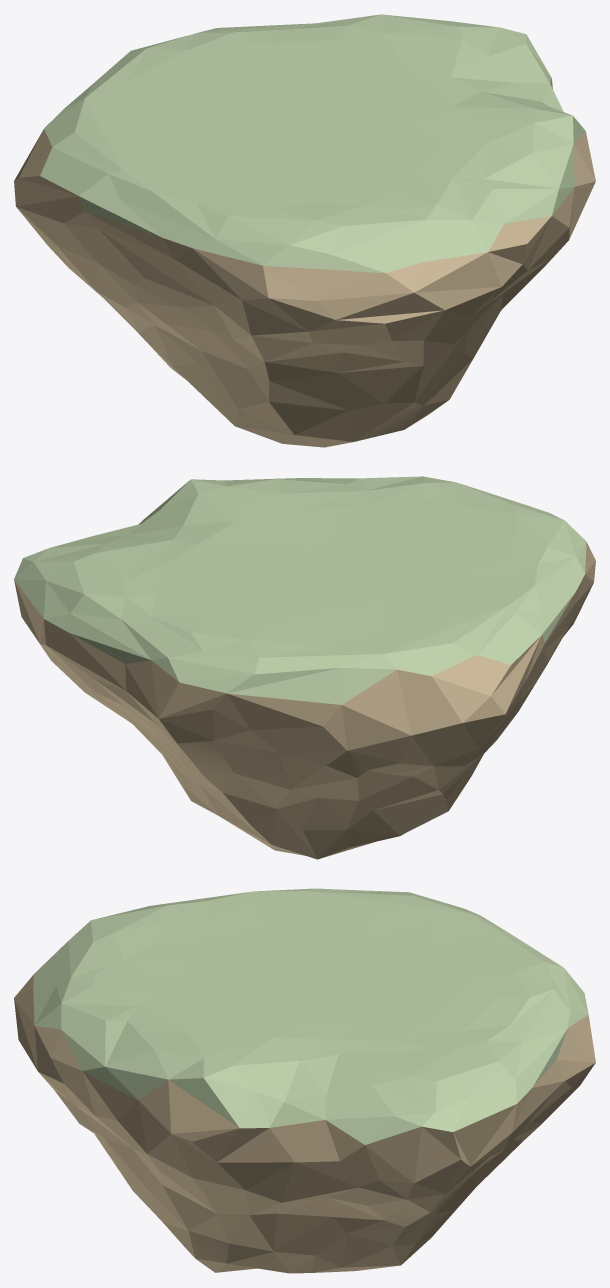
The model's file is floating rock.fbx.
3 renders of one model, top to bottom at view 1: azimuth 30°, elevation 25°; view 2: azimuth 150°, elevation 25°; view 3: azimuth 270°, elevation 25°, orthographic. The views are drawn at different scales.
Parts seen in each view (by area): view 1: polySurface1; view 2: polySurface1; view 3: polySurface1.
Part boxes in pixels (x1,y1,x2,y2): polySurface1: (14, 14, 595, 447); polySurface1: (14, 476, 595, 859); polySurface1: (14, 888, 595, 1273).
Size of the model in its own units: 17.89 by 9.66 by 18.22.
